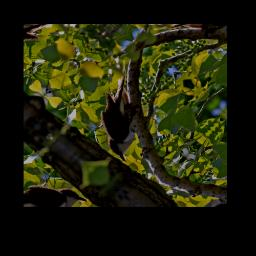Cuckoo: (73, 68, 178, 164)
